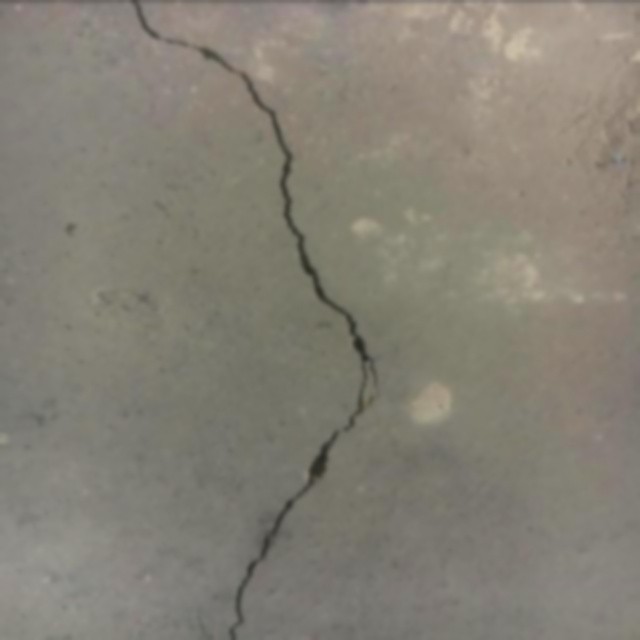SurfaceCrack: (164, 1, 402, 640)
